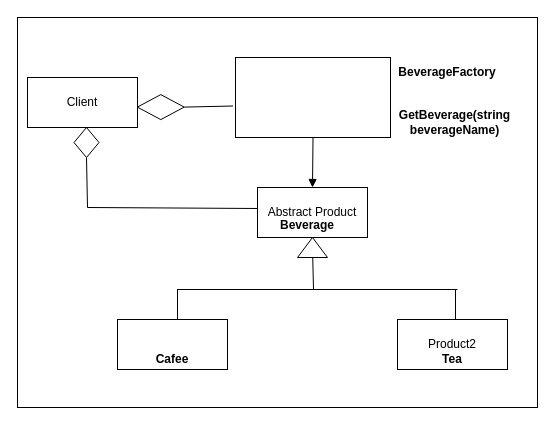
Image size: 555x425. Some labels were removed from this diagram. The box of each missing label's shape, as (x1, y1, x2, y2) in pixels:
Factory Create Type: (234, 56, 390, 138)
Product1: (116, 318, 228, 370)
